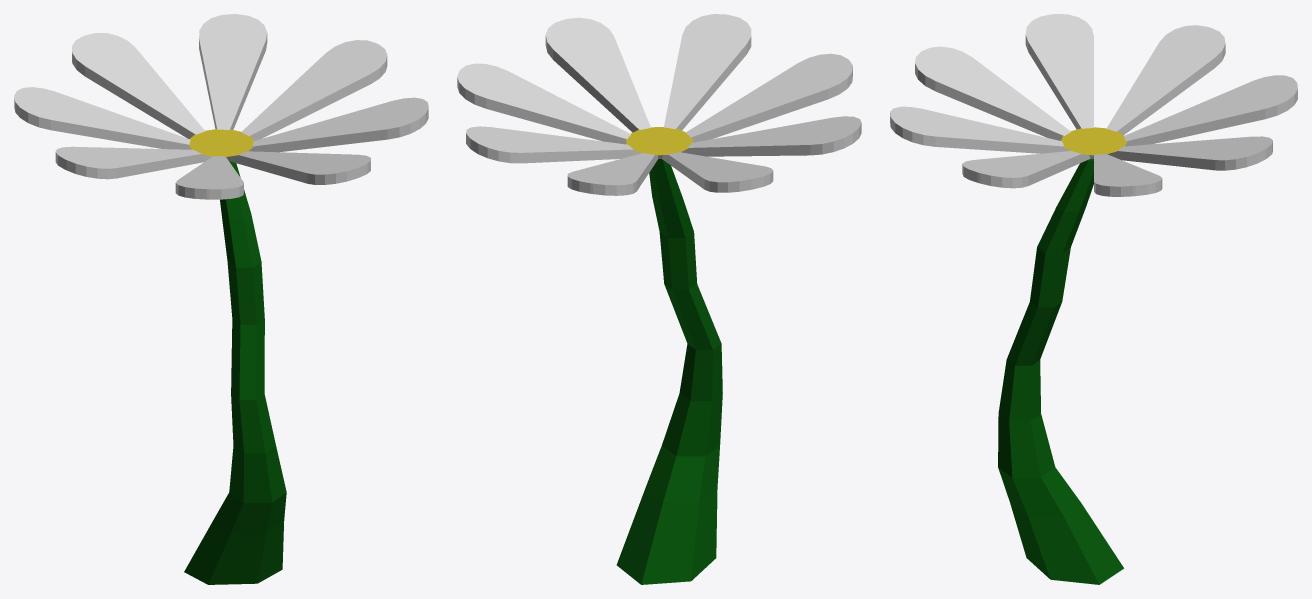
File: Cvijet1.fbx
The picture shows the model from 3 angles, left to right: view 1: azimuth 30°, elevation 25°; view 2: azimuth 150°, elevation 25°; view 3: azimuth 270°, elevation 25°; orthographic projection.
Parts seen in each view (by area): view 1: Cylinder; view 2: Cylinder; view 3: Cylinder.
Boxes of the visible parts, bbox=[...] form: Cylinder: bbox=[14, 14, 428, 584]; Cylinder: bbox=[457, 14, 861, 584]; Cylinder: bbox=[890, 14, 1297, 584].
Size of the model in its own units: 96.14 by 121 by 96.14.
